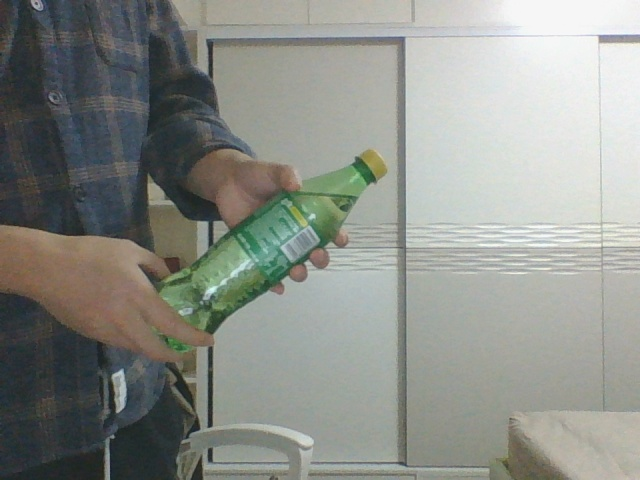Sprite: (152, 149, 388, 349)
